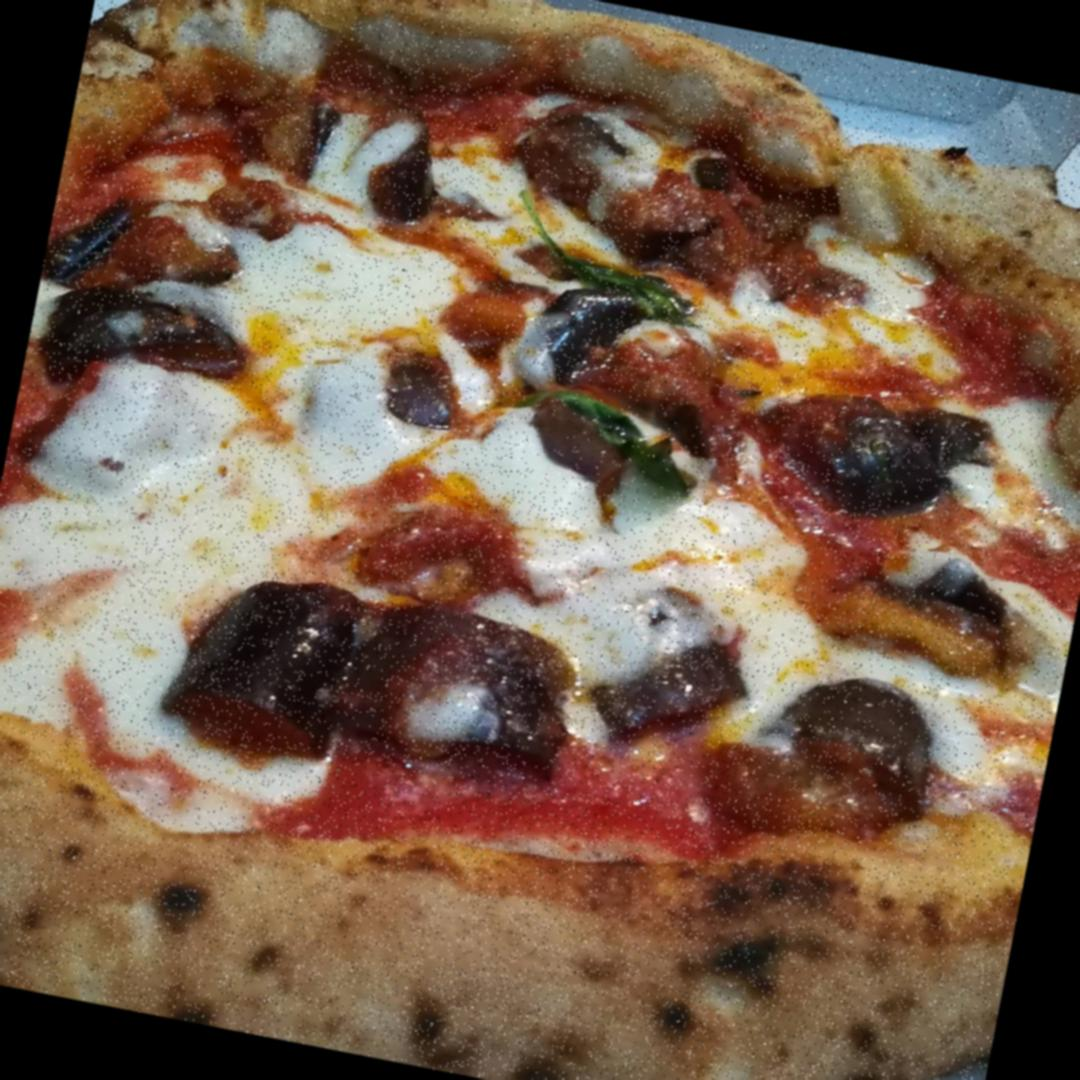Basil: (524, 377, 698, 498), (529, 237, 700, 333)
Pizza: (0, 0, 1080, 1080)
